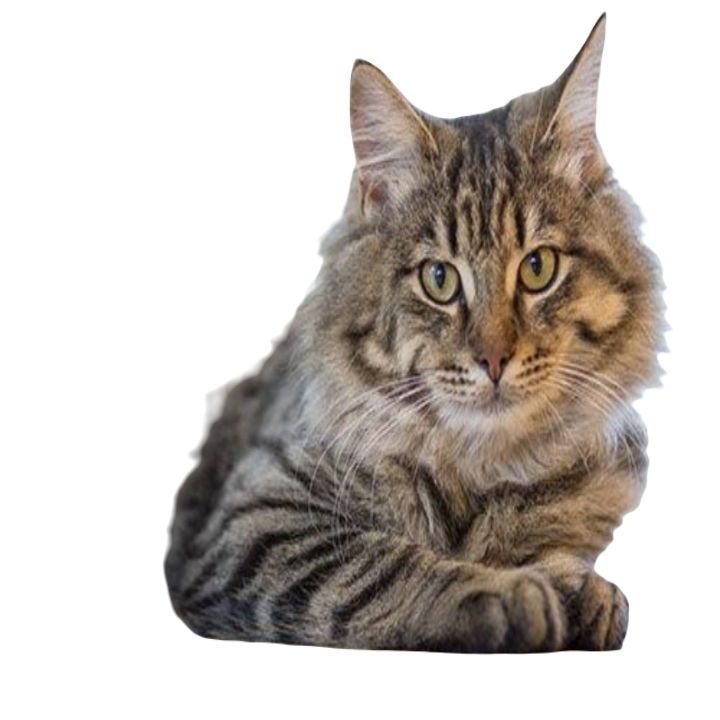Cat: (140, 10, 679, 655)
